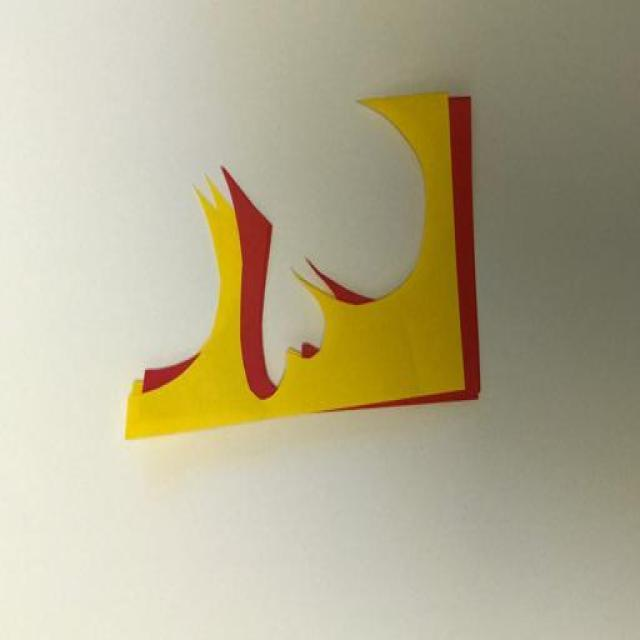paper: (124, 90, 482, 440)
